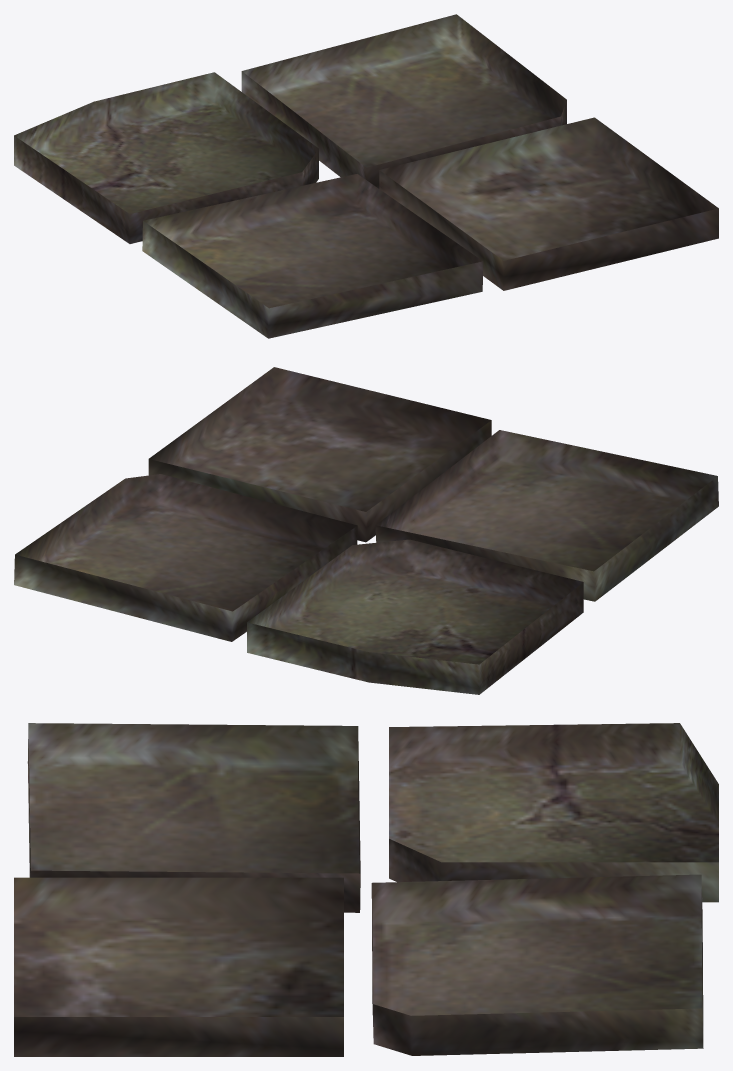
Rendered from R1_floor1.fbx.
3 renders of one model, top to bottom at view 1: azimuth 30°, elevation 25°; view 2: azimuth 150°, elevation 25°; view 3: azimuth 270°, elevation 25°, orthographic. The views are drawn at different scales.
Visible parts, largest first — view 1: polySurface158; view 2: polySurface158; view 3: polySurface158.
Part boxes in pixels (x1,y1,x2,y2): polySurface158: (14, 14, 718, 338); polySurface158: (14, 367, 718, 694); polySurface158: (14, 723, 718, 1056).
Size of the model in its own units: 3.48 by 0.2933 by 3.52.
1 material, 1 textured.
